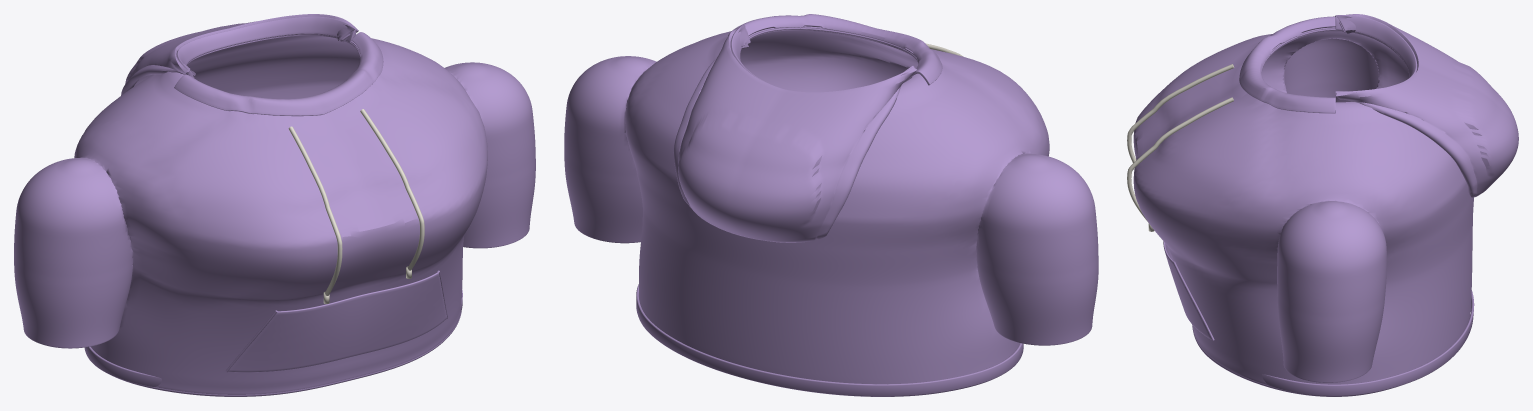
Rendered from Feminine-sweatshirt-top.glb.
The picture shows the model from 3 angles, left to right: view 1: azimuth 30°, elevation 25°; view 2: azimuth 150°, elevation 25°; view 3: azimuth 270°, elevation 25°; orthographic projection. The views are drawn at different scales.
Visible parts, largest first — view 1: Clothing / joined sweatshirt186, Hoodie / kangaroo pocket, Hoodie / soft front fold188, Hoodie / seated rear fold187, Hoodie / resting hood, Hoodie / ribbed hem, Hoodie / drawcord -1 export, Hoodie / drawcord 1 export, Shirt / seated hem export; view 2: Clothing / joined sweatshirt186, Hoodie / resting hood, Hoodie / ribbed hem, Hoodie / soft front fold188; view 3: Clothing / joined sweatshirt186, Hoodie / resting hood, Hoodie / soft front fold188, Hoodie / ribbed hem, Hoodie / seated rear fold187, Hoodie / kangaroo pocket, Hoodie / drawcord 1 export, Hoodie / drawcord -1 export, Shirt / seated hem export.
Boxes of the visible parts, x1,y1,x2,y2 form: Clothing / joined sweatshirt186: (14, 34, 535, 394); Hoodie / kangaroo pocket: (228, 272, 447, 372); Hoodie / soft front fold188: (174, 32, 383, 116); Hoodie / seated rear fold187: (176, 16, 357, 77); Hoodie / resting hood: (121, 14, 358, 95); Hoodie / ribbed hem: (84, 289, 462, 386); Hoodie / drawcord -1 export: (288, 126, 342, 295); Hoodie / drawcord 1 export: (360, 109, 424, 270); Shirt / seated hem export: (113, 311, 461, 396); Clothing / joined sweatshirt186: (564, 26, 1098, 384); Hoodie / resting hood: (673, 24, 916, 242); Hoodie / ribbed hem: (636, 284, 1023, 396); Hoodie / soft front fold188: (728, 14, 942, 85); Clothing / joined sweatshirt186: (1133, 27, 1473, 384); Hoodie / resting hood: (1335, 14, 1518, 197); Hoodie / soft front fold188: (1239, 16, 1335, 113); Hoodie / ribbed hem: (1262, 290, 1474, 396); Hoodie / seated rear fold187: (1335, 15, 1417, 102); Hoodie / kangaroo pocket: (1163, 241, 1211, 339); Hoodie / drawcord 1 export: (1127, 97, 1233, 222); Hoodie / drawcord -1 export: (1127, 64, 1234, 162); Shirt / seated hem export: (1192, 326, 1397, 396).
Bounding box in the file's own units: 0.9381 × 0.4907 × 0.6595.
